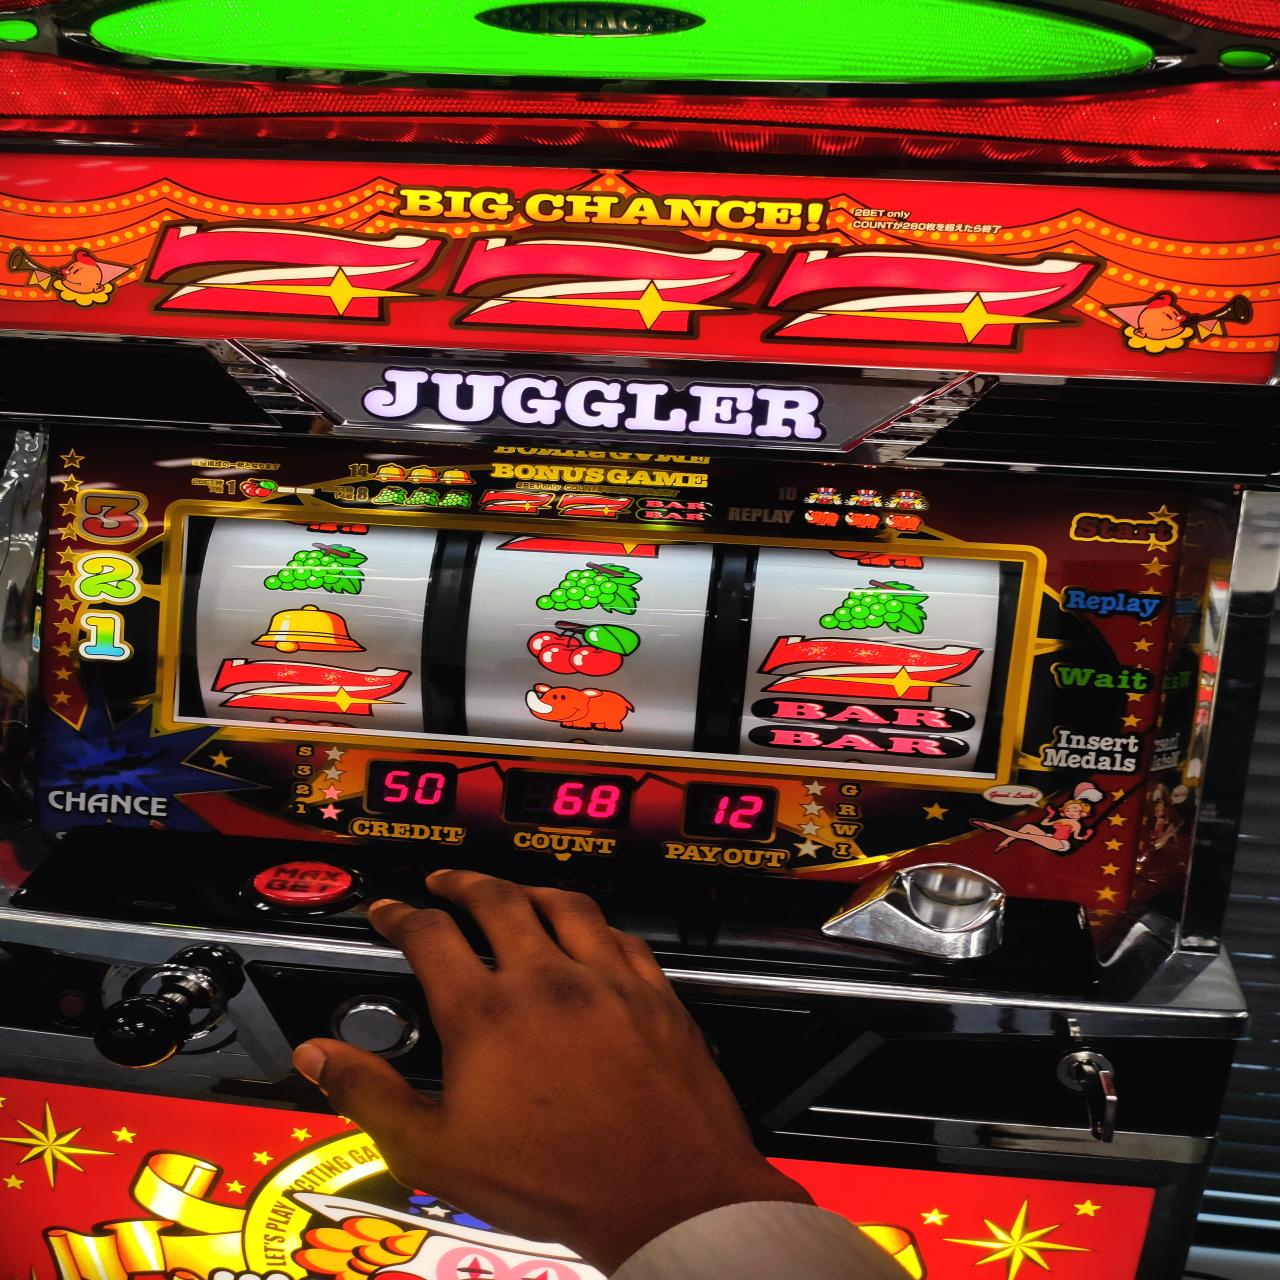7: (761, 635, 985, 702), (211, 658, 409, 719)
8: (525, 682, 638, 730)
Display: (168, 510, 1015, 769)
bar: (753, 695, 980, 758)
bell: (257, 602, 366, 655)
cherry: (529, 620, 644, 676)
grape: (259, 539, 369, 595), (819, 579, 927, 634), (538, 560, 642, 612)
